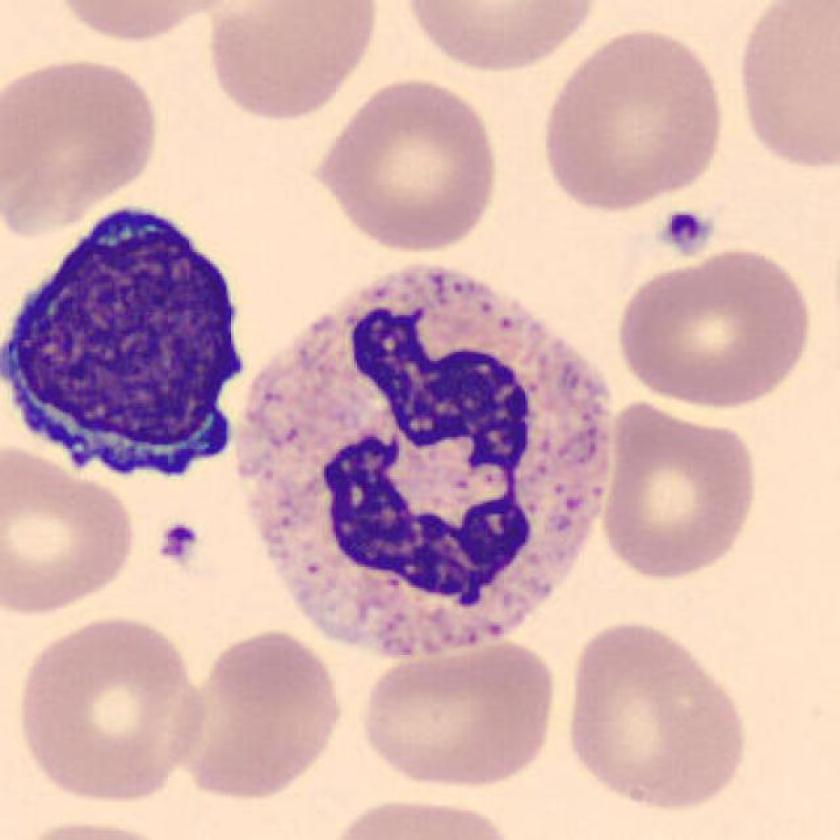neutrophil: (241, 257, 613, 653)
